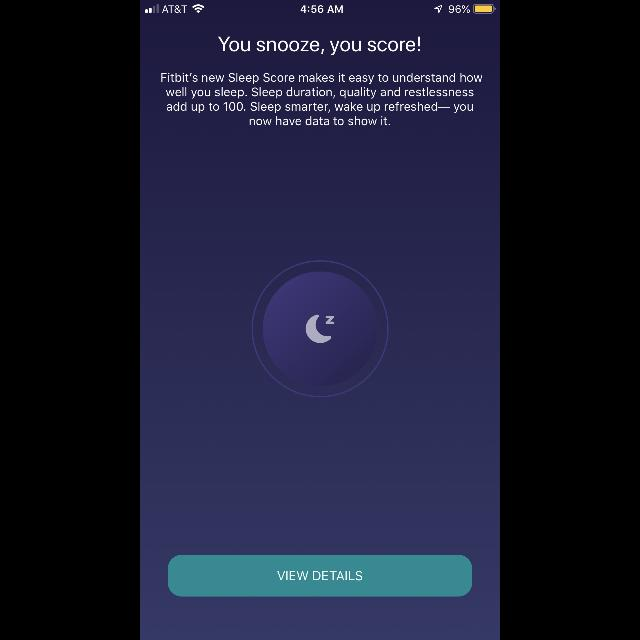image: (252, 260, 388, 398)
text: (162, 72, 482, 126), (218, 36, 420, 56)
textbutton: (168, 555, 472, 597)
uppertaskbar: (140, 0, 500, 14)
